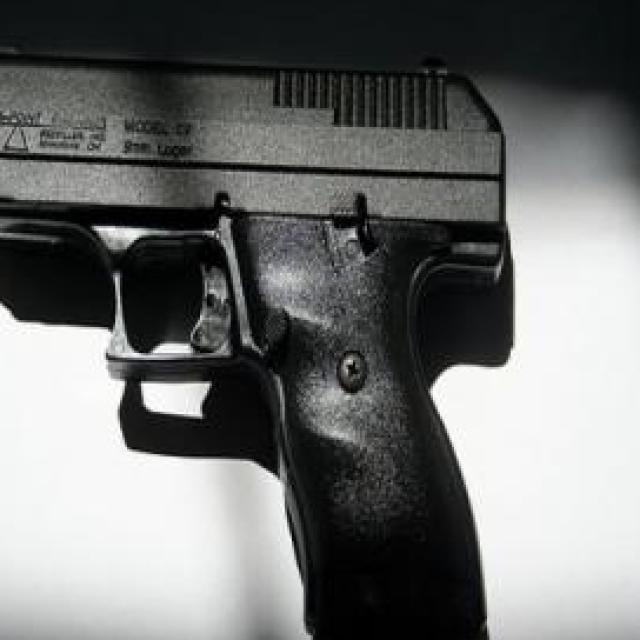pistol: (0, 45, 513, 638)
